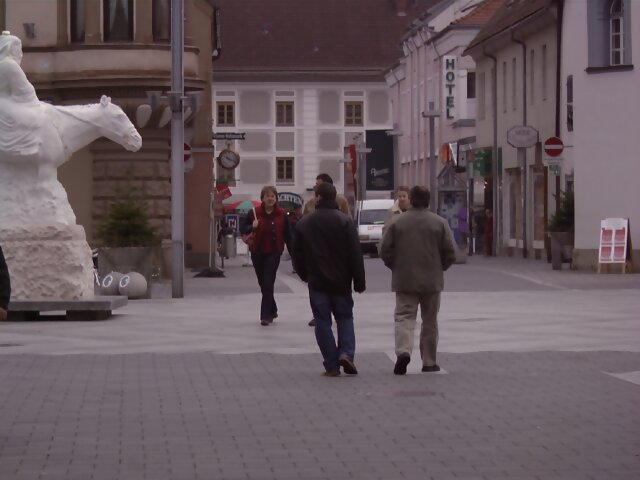person: (380, 185, 461, 384), (294, 179, 373, 379), (237, 183, 288, 328)
